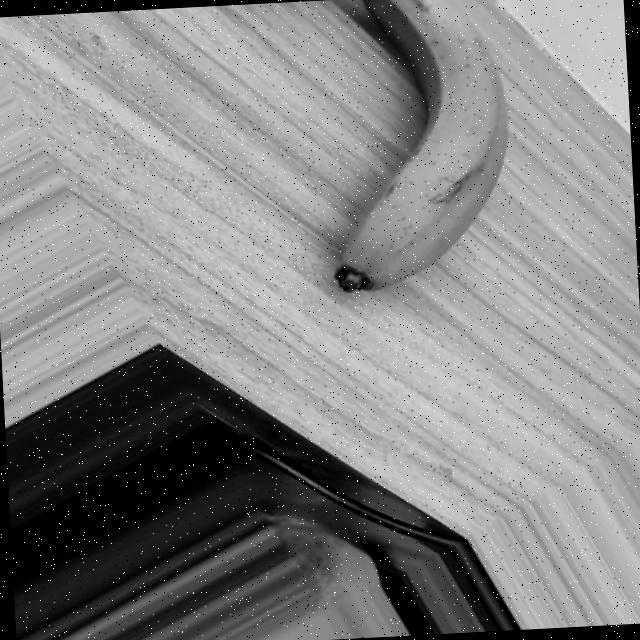Unripe: (318, 0, 521, 293)
